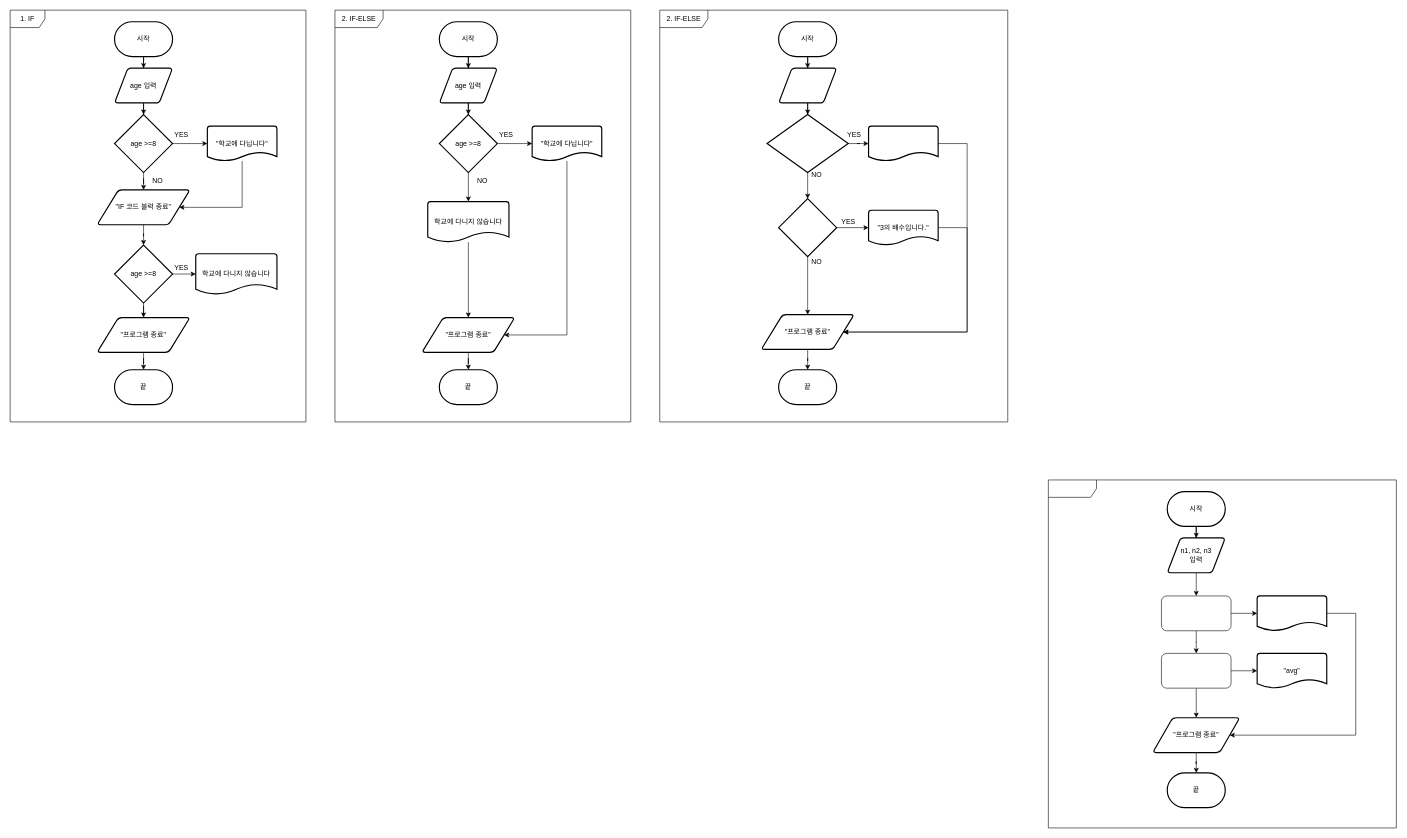
This 1407x838 diagram has some shape labels left out. The shapes that lost their labels are listed below. From the top down, each one's box as (x1, y1, x2, y2) in pixels, then its label:
(778, 67, 837, 103): 정수 입력
(766, 114, 849, 173): 5의 배수이면서 3의 배수
(868, 125, 938, 161): "5의 배수이면서, 3의 배수입니다."
(778, 198, 837, 257): 3의 배수
(1161, 595, 1231, 631): sum = n1 + n2 + n3
(1256, 595, 1327, 631): "sum"
(1161, 653, 1231, 688): avg = sum/3
(1048, 479, 1396, 828): 문제 4
